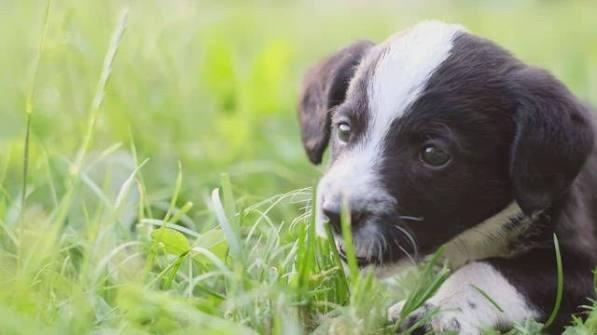puppy-dog: (298, 16, 597, 335)
